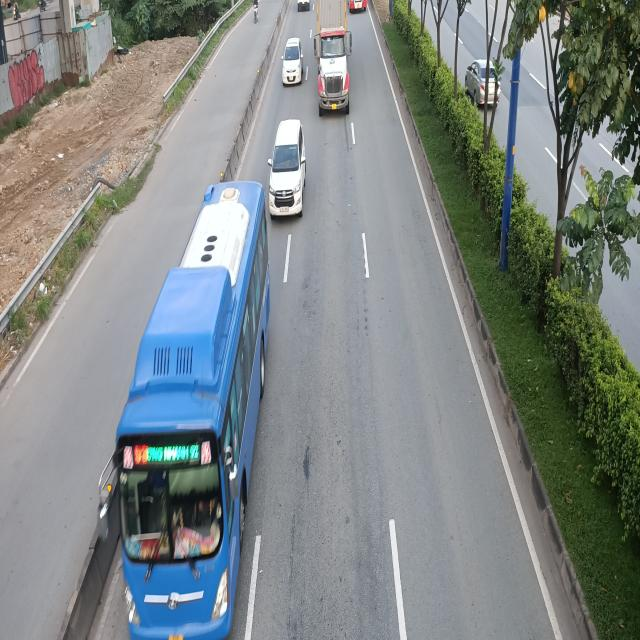car: (267, 118, 306, 217), (281, 38, 303, 88)
coach: (101, 181, 270, 639)
container: (314, 2, 352, 116)
